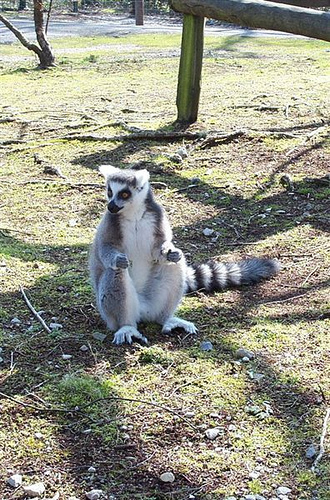cat: (81, 151, 285, 357)
